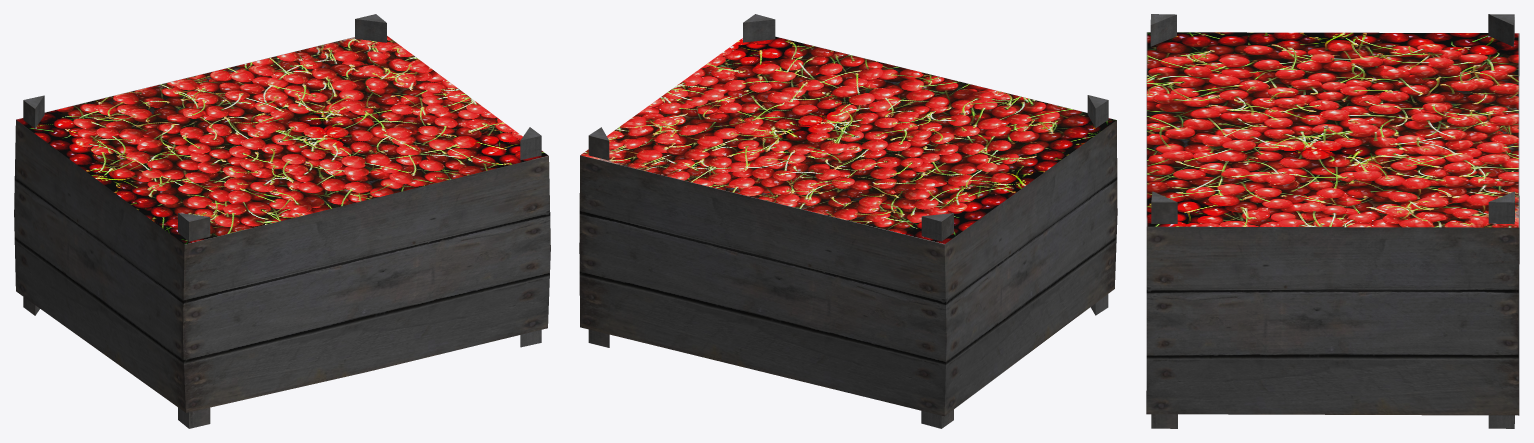
The model's file is fruitbox02_LOD02.fbx.
The picture shows the model from 3 angles, left to right: view 1: azimuth 30°, elevation 25°; view 2: azimuth 150°, elevation 25°; view 3: azimuth 270°, elevation 25°; orthographic projection. The views are drawn at different scales.
Parts seen in each view (by area): view 1: Mesh Object; view 2: Mesh Object; view 3: Mesh Object.
Boxes of the visible parts, x1=… form: Mesh Object: x1=14, y1=14, x2=550, y2=428; Mesh Object: x1=579, y1=14, x2=1117, y2=428; Mesh Object: x1=1146, y1=14, x2=1519, y2=428.
Size of the model in its own units: 0.6318 by 0.3394 by 0.5067.
